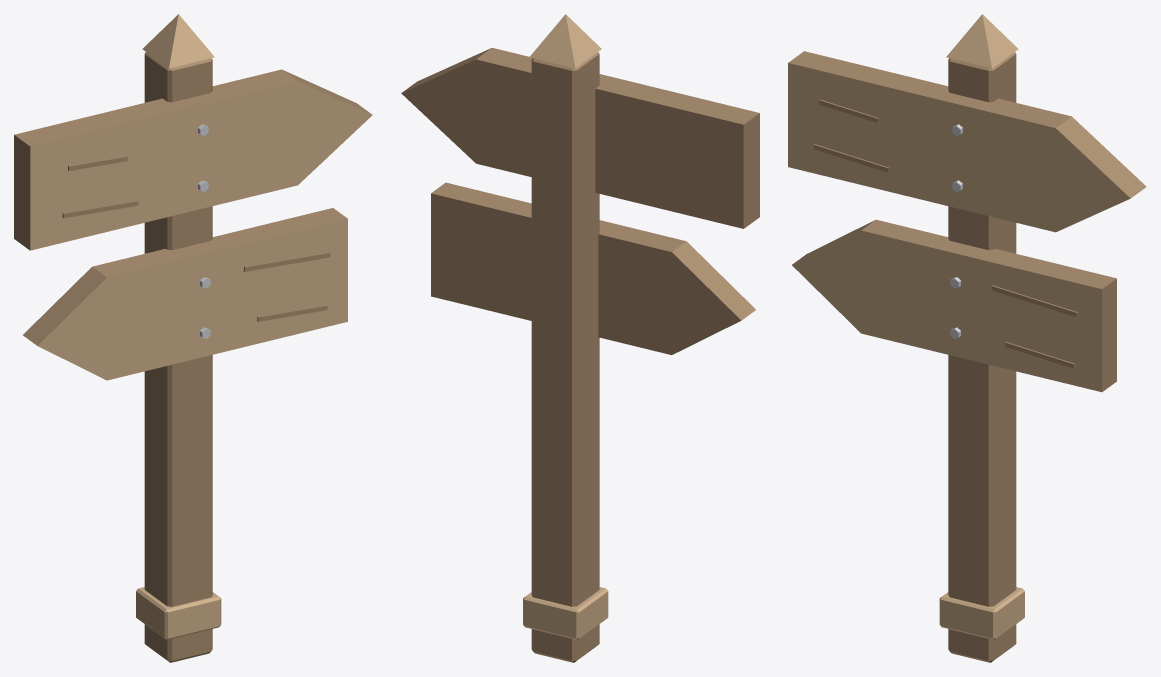
File: prop_signpost.glb
3 views of the same model, side by side, from view 1: azimuth 30°, elevation 25°; view 2: azimuth 150°, elevation 25°; view 3: azimuth 330°, elevation 25° (orthographic).
Visible parts, largest first — view 1: prop_signpost; view 2: prop_signpost; view 3: prop_signpost.
Part boxes in pixels (left/top/right/bottom): prop_signpost: left=14, top=14, right=372, bottom=662; prop_signpost: left=401, top=14, right=759, bottom=662; prop_signpost: left=788, top=14, right=1146, bottom=662.
Bounding box in the file's own units: 0.64 × 1.13 × 0.1425.
